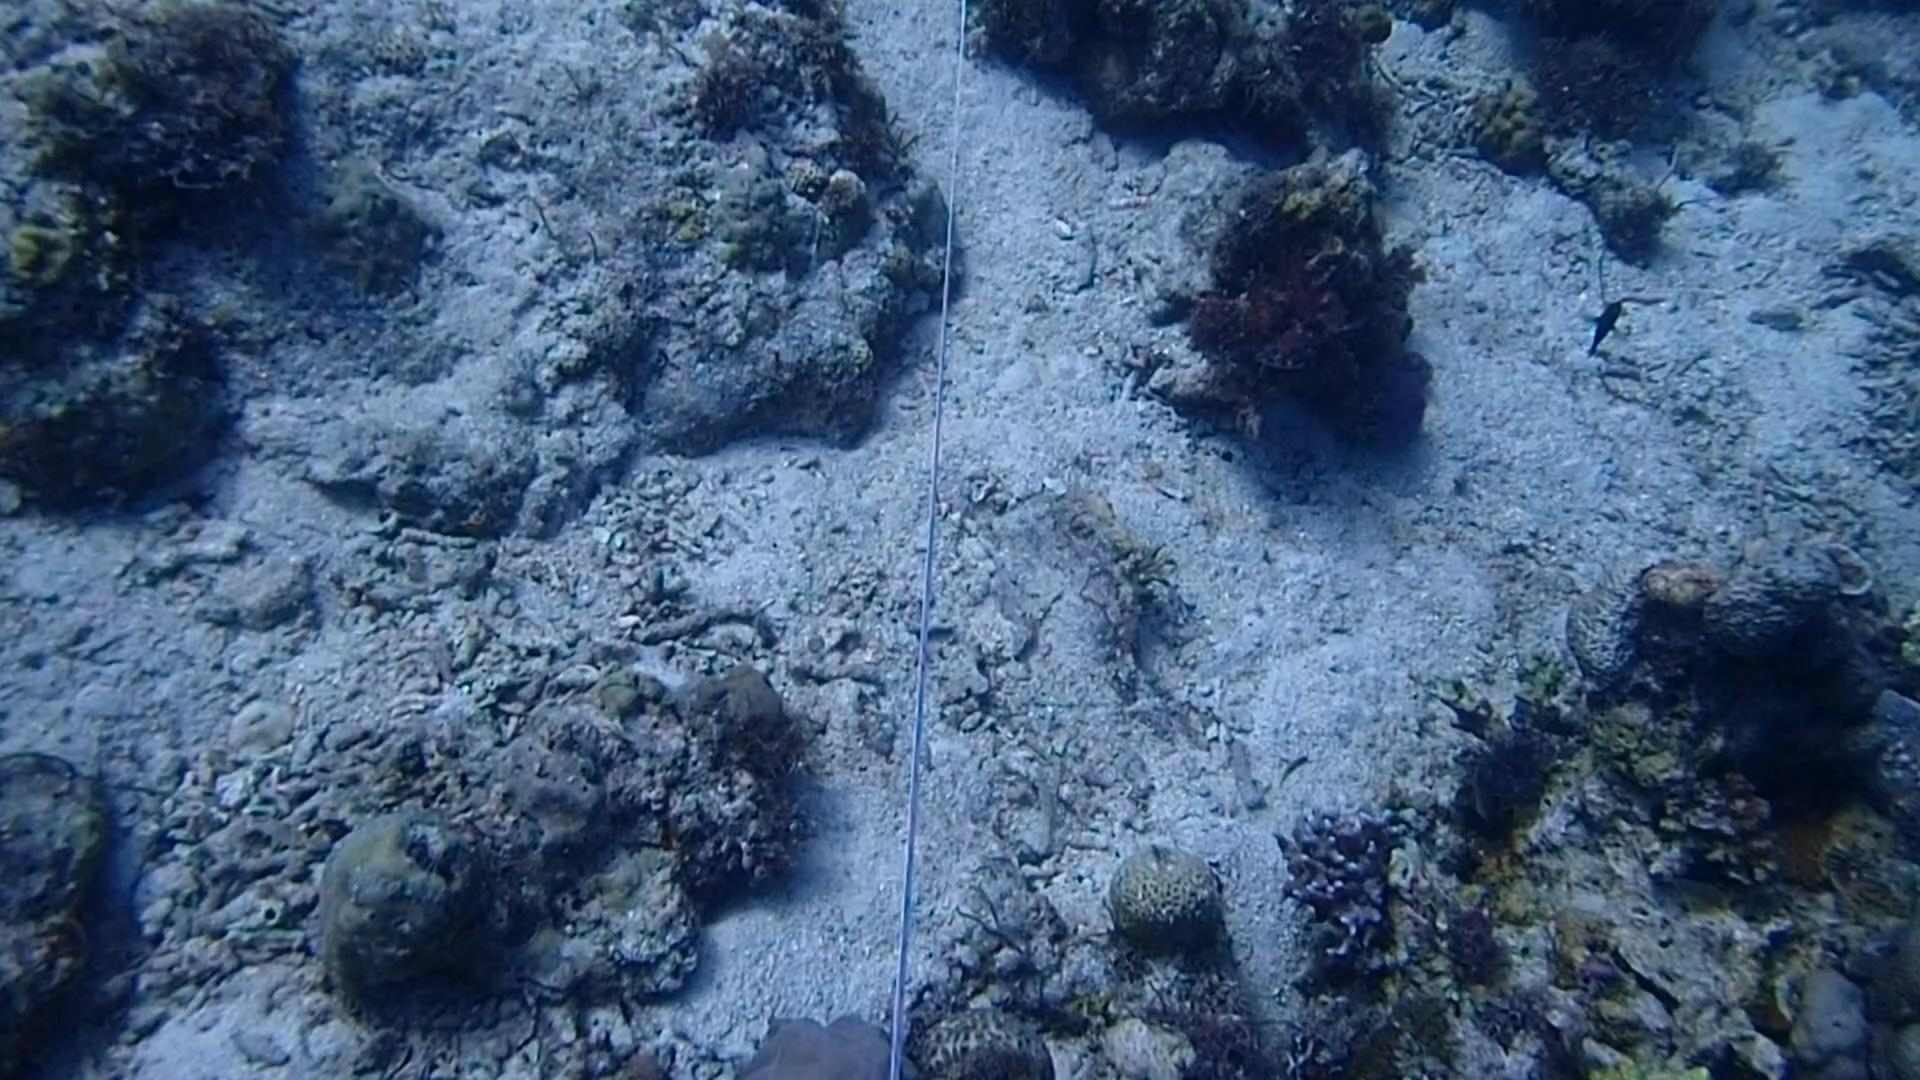Dark Fish: (1580, 289, 1633, 361)
